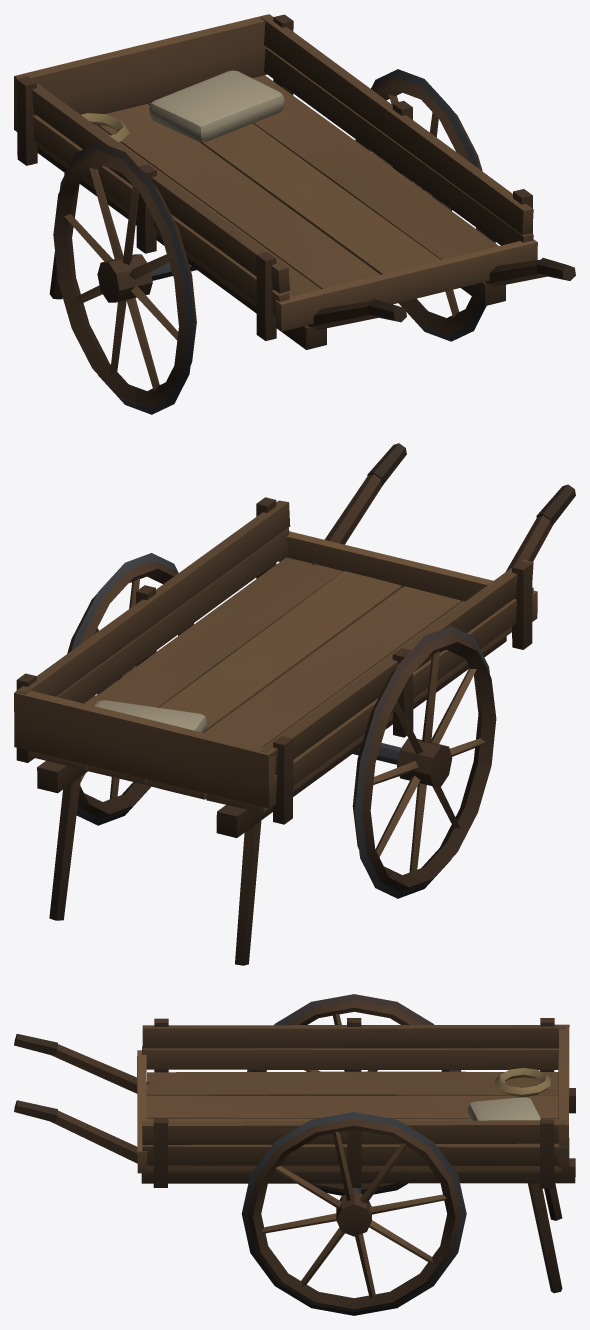
File: ph_prop_handcart.glb
3 renders of one model, top to bottom at view 1: azimuth 30°, elevation 25°; view 2: azimuth 150°, elevation 25°; view 3: azimuth 270°, elevation 25°, orthographic. The views are drawn at different scales.
Parts seen in each view (by area): view 1: ph_prop_handcart; view 2: ph_prop_handcart; view 3: ph_prop_handcart.
Part boxes in pixels (bbox=[...]): ph_prop_handcart: bbox=[14, 14, 575, 414]; ph_prop_handcart: bbox=[14, 443, 575, 965]; ph_prop_handcart: bbox=[14, 994, 575, 1315].
Bounding box in the file's own units: 1.3 × 0.944 × 2.36.
